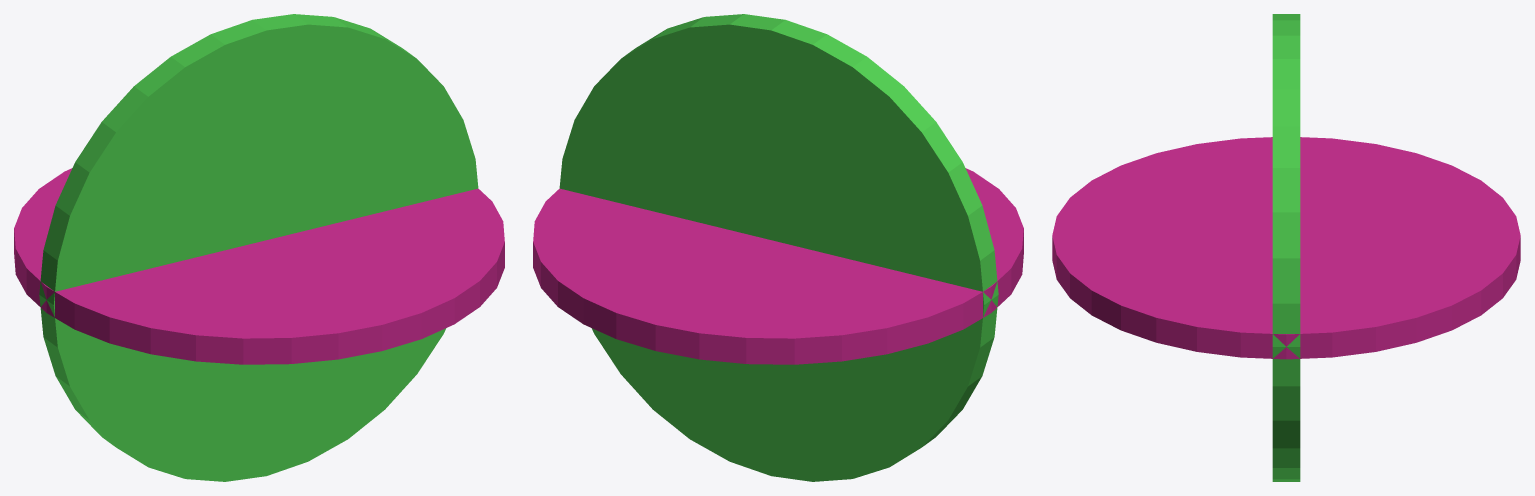
3 views of the same model, side by side, from view 1: azimuth 30°, elevation 25°; view 2: azimuth 150°, elevation 25°; view 3: azimuth 270°, elevation 25° (orthographic). The views are drawn at different scales.
Parts seen in each view (by area): view 1: Cylinder.001, Cylinder; view 2: Cylinder.001, Cylinder; view 3: Cylinder, Cylinder.001.
Boxes of the visible parts, x1=… form: Cylinder.001: x1=39, y1=14, x2=478, y2=481; Cylinder: x1=14, y1=168, x2=504, y2=364; Cylinder.001: x1=559, y1=14, x2=998, y2=481; Cylinder: x1=533, y1=168, x2=1023, y2=364; Cylinder: x1=1052, y1=137, x2=1520, y2=359; Cylinder.001: x1=1272, y1=14, x2=1300, y2=481.
Bounding box in the file's own units: 8.34 × 8.34 × 8.34.
